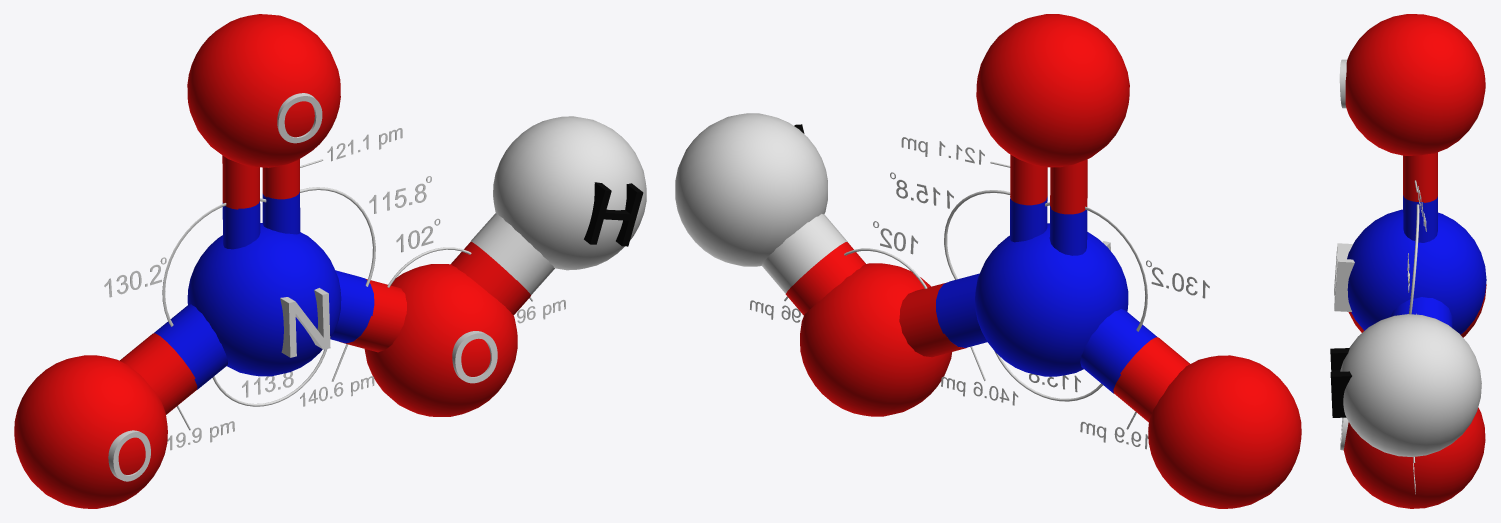
File: uploads_files_2040664_NitricAcidLabel.FBX
The picture shows the model from 3 angles, left to right: view 1: azimuth 30°, elevation 25°; view 2: azimuth 150°, elevation 25°; view 3: azimuth 270°, elevation 25°; orthographic projection. The views are drawn at different scales.
Visible parts, largest first — view 1: Sphere021, Sphere019, Sphere023, Sphere022, Sphere020, Cylinder042, Cylinder043, Cylinder053, Cylinder052, Cylinder051, Cylinder050, Text020 (+8 smaller); view 2: Sphere021, Sphere019, Sphere023, Sphere020, Sphere022, Cylinder042, Cylinder043, Cylinder053, Cylinder051, Cylinder050, Cylinder052, Cylinder045 (+3 smaller); view 3: Sphere021, Sphere023, Sphere020, Sphere022, Cylinder046, Cylinder047, Text012, Text020, Cylinder050, Arc005, O014, Sphere019 (+1 smaller).
Boxes of the visible parts, left/top/right/bottom form: Sphere021: left=187, top=14, right=340, bottom=167; Sphere019: left=14, top=355, right=167, bottom=508; Sphere023: left=493, top=116, right=646, bottom=270; Sphere022: left=364, top=264, right=517, bottom=416; Sphere020: left=187, top=223, right=341, bottom=376; Cylinder042: left=119, top=333, right=197, bottom=414; Cylinder043: left=153, top=304, right=227, bottom=389; Cylinder053: left=470, top=213, right=554, bottom=294; Cylinder052: left=451, top=242, right=530, bottom=314; Cylinder051: left=339, top=279, right=406, bottom=352; Cylinder050: left=330, top=270, right=374, bottom=343; Text020: left=584, top=182, right=643, bottom=246; Sphere021: left=976, top=14, right=1129, bottom=167; Sphere019: left=1148, top=355, right=1301, bottom=508; Sphere023: left=675, top=113, right=827, bottom=266; Sphere020: left=975, top=223, right=1128, bottom=376; Sphere022: left=800, top=263, right=951, bottom=416; Cylinder042: left=1113, top=337, right=1189, bottom=422; Cylinder043: left=1080, top=309, right=1157, bottom=393; Cylinder053: left=761, top=214, right=847, bottom=293; Cylinder051: left=899, top=282, right=966, bottom=357; Cylinder050: left=936, top=273, right=987, bottom=347; Cylinder052: left=785, top=242, right=865, bottom=315; Cylinder045: left=1050, top=159, right=1087, bottom=214; Sphere021: left=1345, top=14, right=1485, bottom=155; Sphere023: left=1340, top=314, right=1481, bottom=456; Sphere020: left=1347, top=209, right=1486, bottom=334; Sphere022: left=1343, top=407, right=1485, bottom=508; Cylinder046: left=1403, top=152, right=1437, bottom=202; Cylinder047: left=1403, top=195, right=1437, bottom=242; Text012: left=1334, top=243, right=1354, bottom=311; Text020: left=1330, top=348, right=1351, bottom=417; Cylinder050: left=1390, top=297, right=1452, bottom=327; Arc005: left=1409, top=204, right=1419, bottom=314; O014: left=1339, top=59, right=1346, bottom=108; Sphere019: left=1348, top=284, right=1486, bottom=337.
Bounding box in the file's own units: 65.25 × 44.9 × 15.58.
